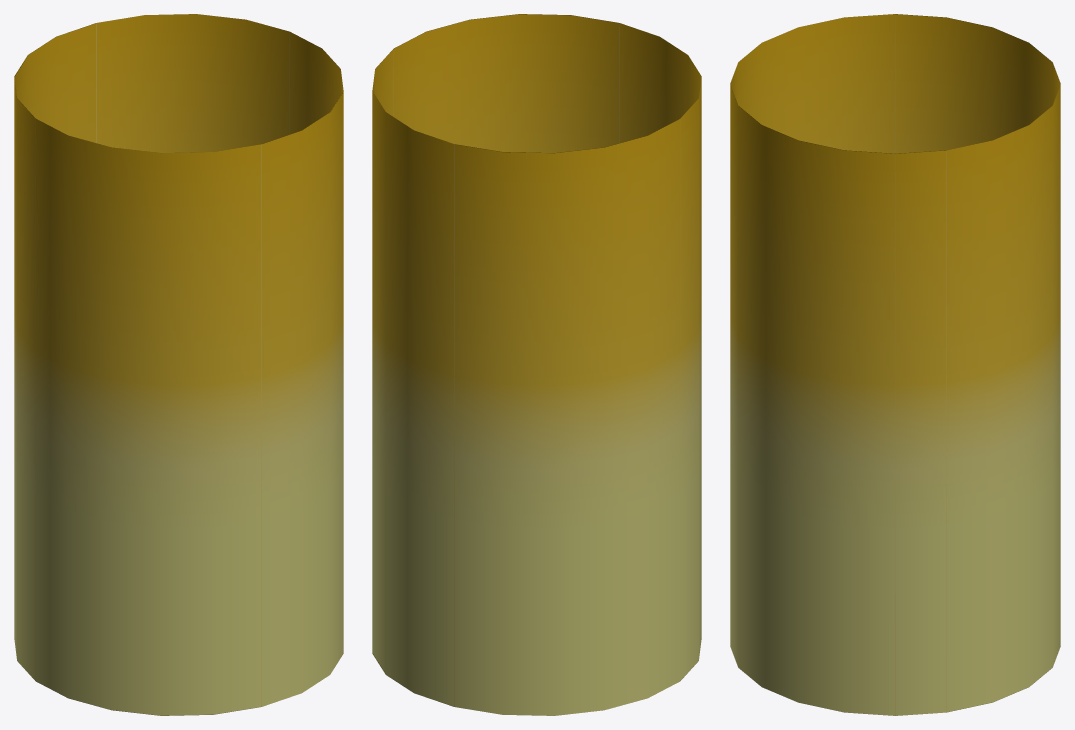
Rendered from evolve_background_yellow.fbx.
The picture shows the model from 3 angles, left to right: view 1: azimuth 30°, elevation 25°; view 2: azimuth 150°, elevation 25°; view 3: azimuth 270°, elevation 25°; orthographic projection.
Visible parts, largest first — view 1: evolve_background_yellow; view 2: evolve_background_yellow; view 3: evolve_background_yellow.
Boxes of the visible parts, x1=… form: evolve_background_yellow: x1=14, y1=14, x2=343, y2=715; evolve_background_yellow: x1=372, y1=14, x2=701, y2=715; evolve_background_yellow: x1=730, y1=14, x2=1060, y2=715.
Bounding box in the file's own units: 18.12 × 34 × 18.12.
1 material, 1 textured.
